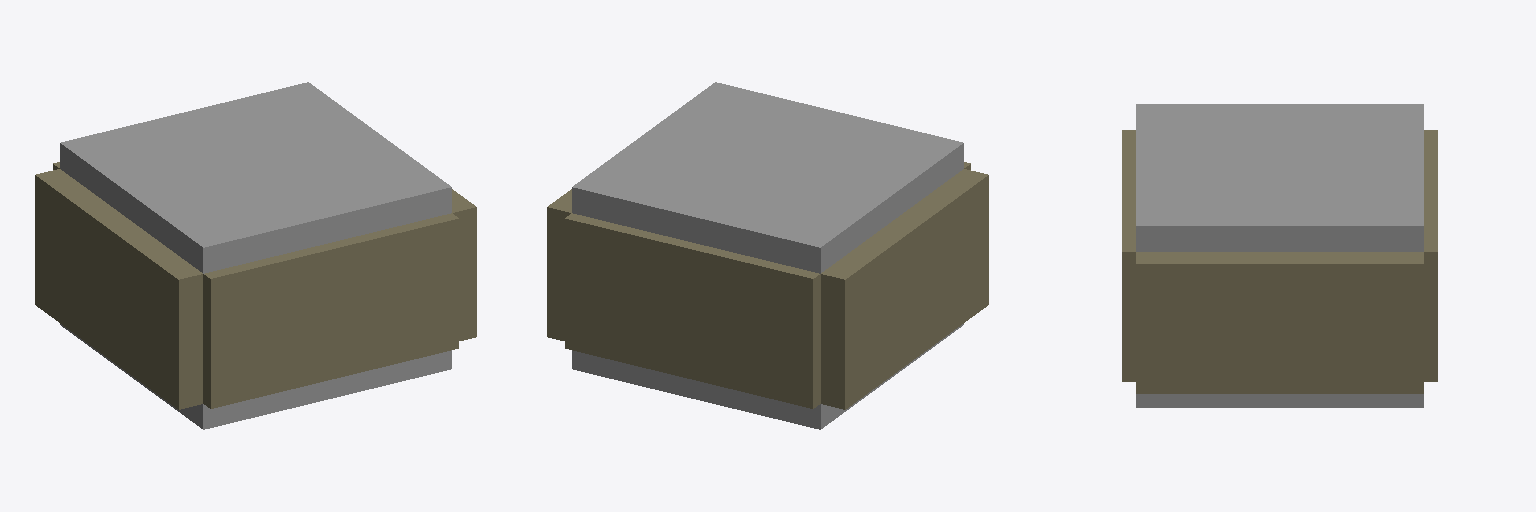
3 renders of one model, left to right at view 1: azimuth 30°, elevation 25°; view 2: azimuth 150°, elevation 25°; view 3: azimuth 270°, elevation 25°, orthographic.
Visible parts, largest first — view 1: Cube.005_Cube.001, Cube.004_Cube.011, Cube.002_Cube.006, Cube, Cube.001_Cube.003; view 2: Cube.005_Cube.001, Cube.003_Cube.010, Cube.002_Cube.006, Cube, Cube.001_Cube.003; view 3: Cube.005_Cube.001, Cube.001_Cube.003, Cube, Cube.004_Cube.011, Cube.003_Cube.010.
Part boxes in pixels (left/top/right/bottom): Cube.005_Cube.001: left=60, top=82, right=451, bottom=273; Cube.004_Cube.011: left=203, top=213, right=458, bottom=408; Cube.002_Cube.006: left=35, top=169, right=202, bottom=409; Cube: left=60, top=324, right=451, bottom=429; Cube.001_Cube.003: left=452, top=189, right=476, bottom=340; Cube.005_Cube.001: left=572, top=82, right=963, bottom=273; Cube.003_Cube.010: left=565, top=213, right=820, bottom=408; Cube.002_Cube.006: left=821, top=169, right=988, bottom=409; Cube: left=572, top=324, right=963, bottom=429; Cube.001_Cube.003: left=547, top=189, right=571, bottom=340; Cube.005_Cube.001: left=1136, top=104, right=1423, bottom=251; Cube.001_Cube.003: left=1136, top=252, right=1423, bottom=393; Cube: left=1136, top=394, right=1423, bottom=407; Cube.004_Cube.011: left=1122, top=130, right=1135, bottom=381; Cube.003_Cube.010: left=1424, top=130, right=1437, bottom=381.
Bounding box in the file's own units: 24 × 14 × 22.
6 materials, 1 textured.